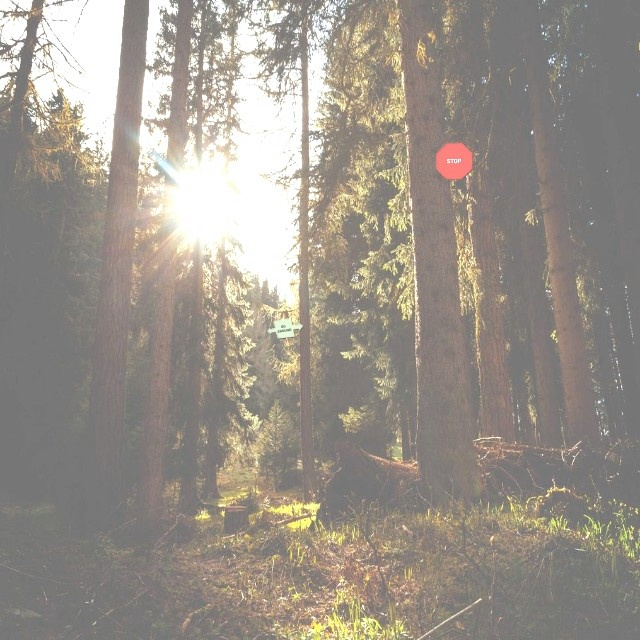GO_AROUND: (266, 317, 304, 339)
STOP: (435, 142, 473, 180)
